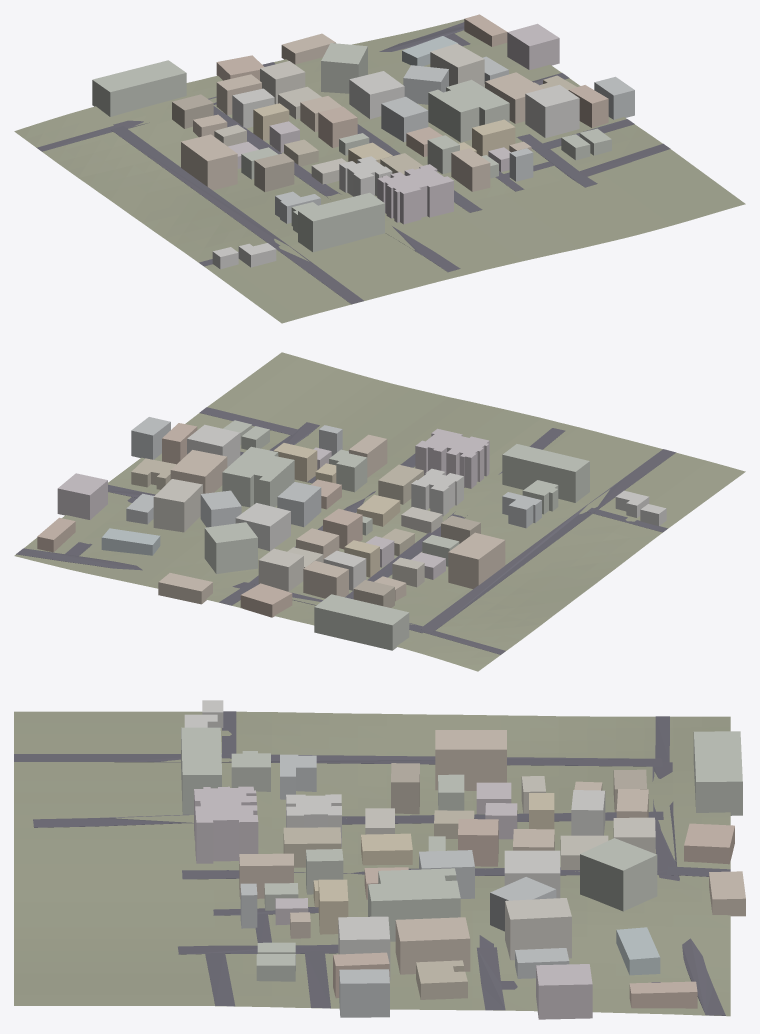
The model's file is chunk_2_9.glb.
3 renders of one model, top to bottom at view 1: azimuth 30°, elevation 25°; view 2: azimuth 150°, elevation 25°; view 3: azimuth 270°, elevation 25°, orthographic. The views are drawn at different scales.
Parts seen in each view (by area): view 1: geometry_56, geometry_23, geometry_49, geometry_1, geometry_55, geometry_66, geometry_26, geometry_25, geometry_40, geometry_11, geometry_39, geometry_38 (+42 smaller); view 2: geometry_56, geometry_49, geometry_23, geometry_66, geometry_55, geometry_1, geometry_26, geometry_40, geometry_38, geometry_11, geometry_0, geometry_39 (+38 smaller); view 3: geometry_56, geometry_1, geometry_55, geometry_40, geometry_49, geometry_66, geometry_26, geometry_19, geometry_38, geometry_11, geometry_23, geometry_52 (+50 smaller).
Boxes of the visible parts, x1,y1,x2,y2 form: geometry_56: [14, 19, 745, 323]; geometry_23: [298, 192, 384, 252]; geometry_49: [92, 60, 186, 116]; geometry_1: [377, 164, 453, 224]; geometry_55: [428, 79, 509, 142]; geometry_66: [111, 126, 363, 304]; geometry_26: [181, 134, 237, 190]; geometry_25: [525, 84, 579, 137]; geometry_40: [321, 43, 367, 93]; geometry_11: [507, 23, 559, 70]; geometry_39: [349, 71, 404, 119]; geometry_38: [430, 43, 484, 87]; geometry_56: [14, 352, 745, 671]; geometry_49: [314, 594, 409, 650]; geometry_23: [502, 444, 589, 502]; geometry_66: [420, 449, 675, 632]; geometry_55: [222, 446, 294, 507]; geometry_1: [415, 428, 489, 488]; geometry_26: [448, 532, 505, 588]; geometry_40: [204, 522, 257, 573]; geometry_38: [153, 479, 202, 532]; geometry_11: [57, 473, 107, 519]; geometry_0: [411, 468, 463, 516]; geometry_39: [235, 503, 290, 551]; geometry_56: [14, 711, 730, 1016]; geometry_1: [194, 786, 258, 863]; geometry_55: [368, 868, 460, 941]; geometry_40: [580, 838, 657, 911]; geometry_49: [693, 731, 742, 815]; geometry_66: [14, 754, 662, 766]; geometry_26: [435, 730, 506, 790]; geometry_19: [395, 917, 470, 974]; geometry_38: [505, 898, 571, 960]; geometry_11: [536, 964, 592, 1019]; geometry_23: [181, 727, 221, 814]; geometry_52: [339, 969, 389, 1017].
Bounding box in the file's own units: 256 × 20.33 × 255.
